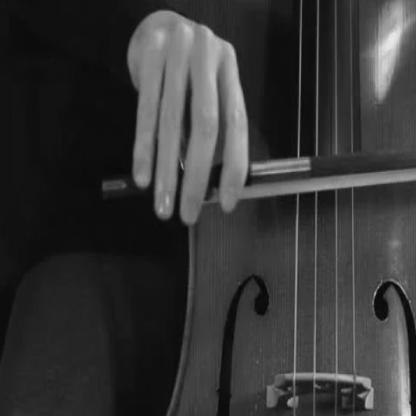good: (122, 1, 252, 229)
